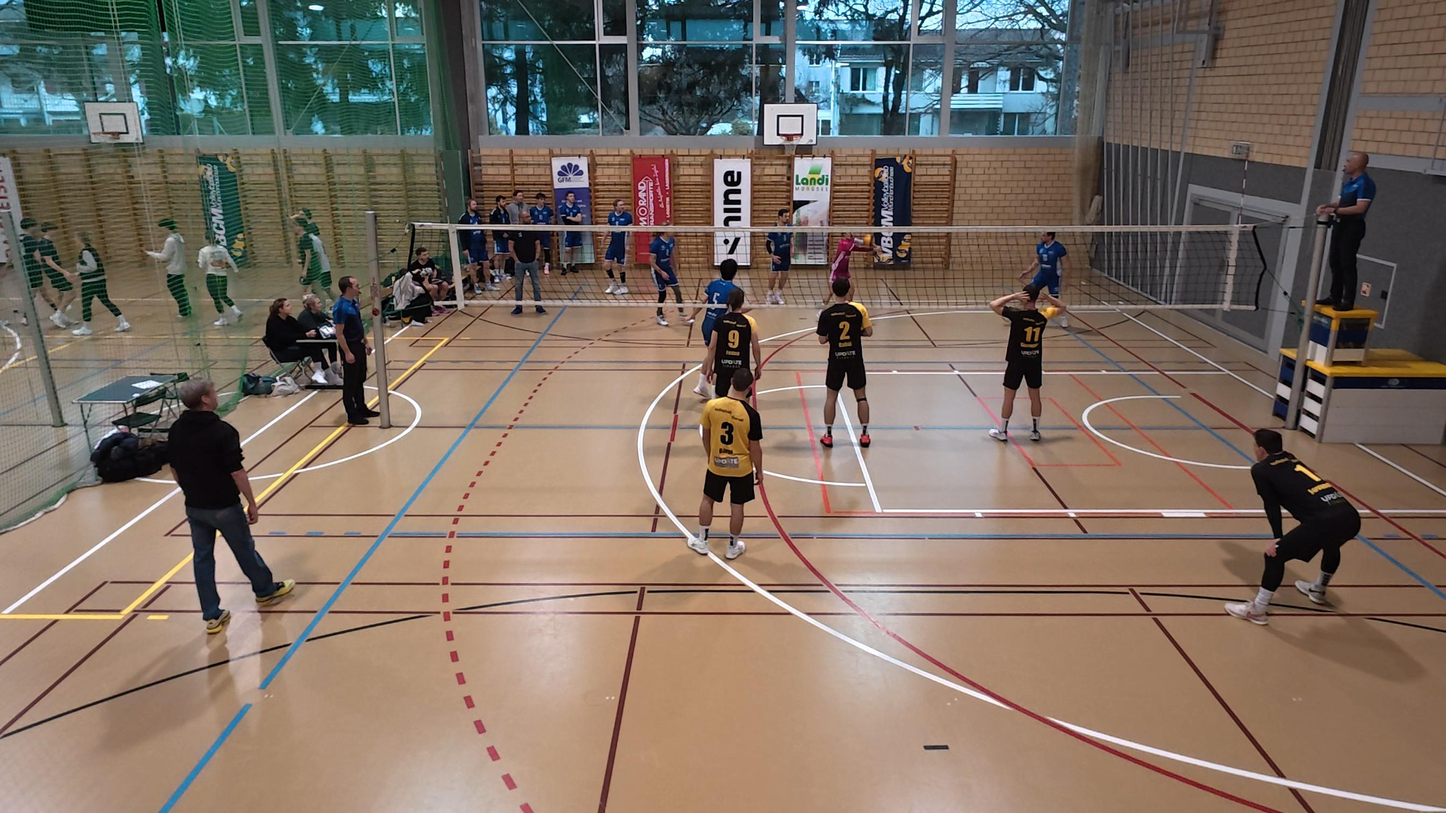ricezione: (825, 216, 878, 302)
